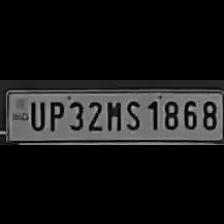1: (142, 96, 160, 130)
2: (85, 97, 103, 131)
3: (65, 97, 83, 131)
6: (180, 96, 198, 130)
8: (160, 96, 180, 130), (198, 96, 218, 130)
M: (104, 97, 122, 131)
P: (46, 97, 64, 131)
S: (123, 97, 141, 131)
U: (28, 96, 44, 130)
